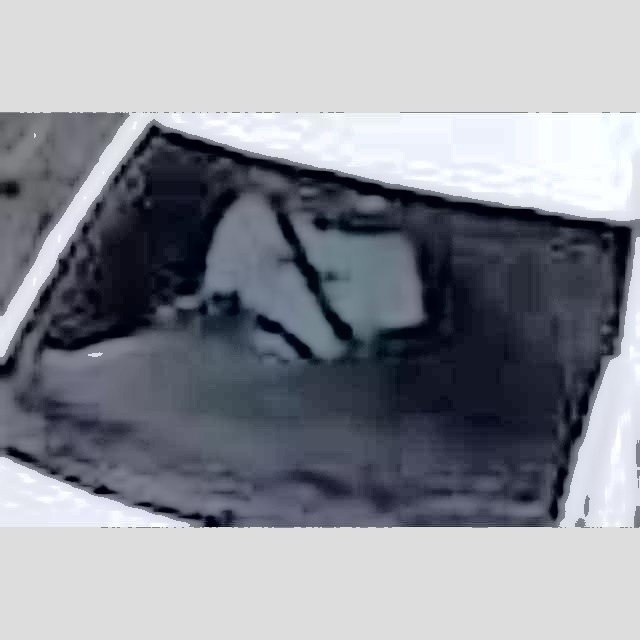pakai: (207, 151, 433, 383)
